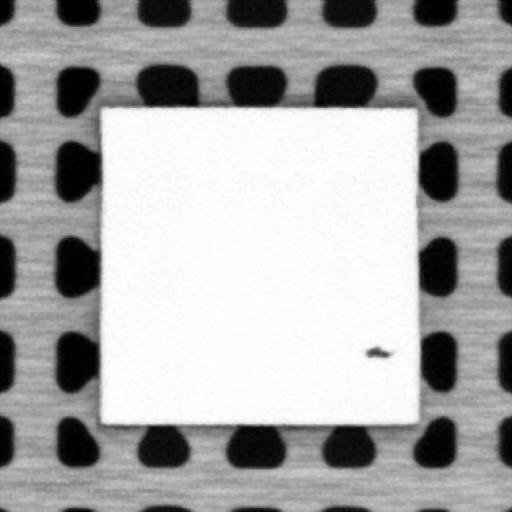DIE_INK: (360, 340, 392, 361)
